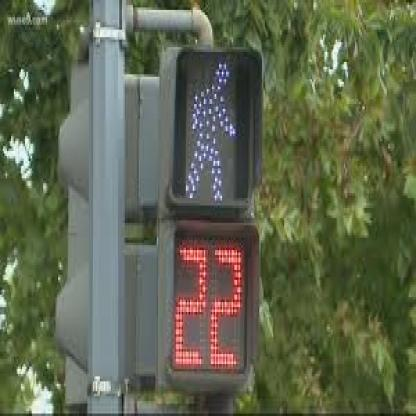Walk: (173, 50, 258, 206)
